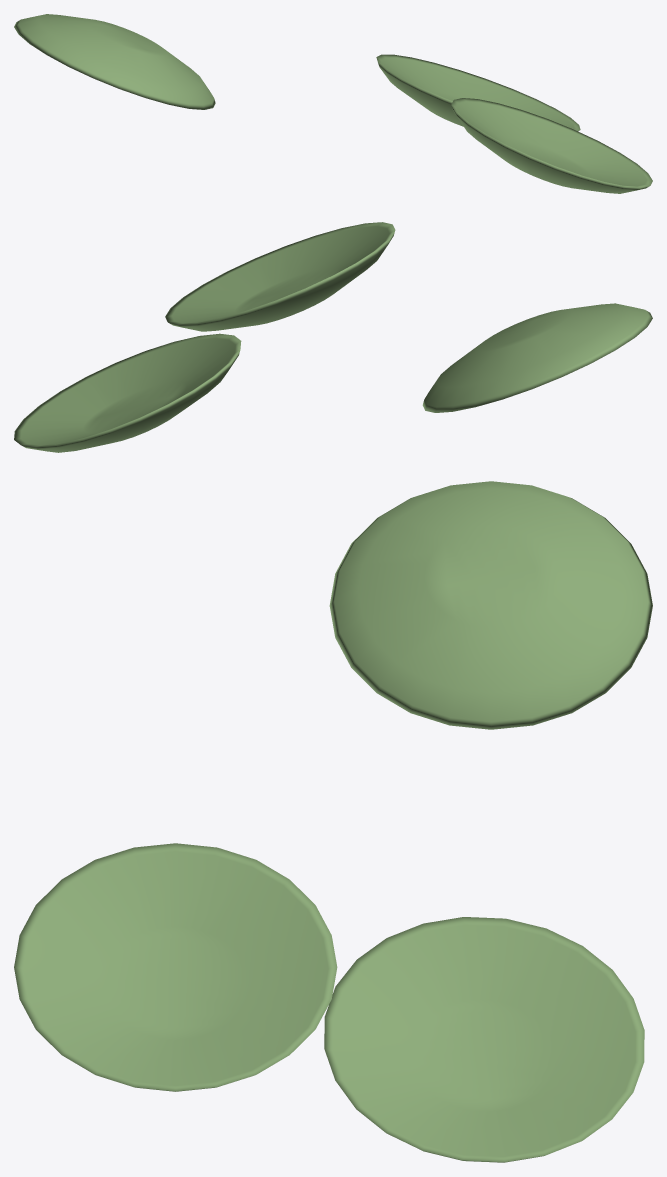
Rendered from Cupboard_14D_Break.fbx.
3 views of the same model, one above another, from view 1: azimuth 30°, elevation 25°; view 2: azimuth 150°, elevation 25°; view 3: azimuth 270°, elevation 25° (orthographic). The views are drawn at different scales.
Parts seen in each view (by area): view 1: Cupboard_14D_Break; view 2: Cupboard_14D_Break; view 3: Cupboard_14D_Break.
Part boxes in pixels (x1,y1,x2,y2): Cupboard_14D_Break: (14,14,652,193); Cupboard_14D_Break: (14,222,652,452); Cupboard_14D_Break: (14,481,652,1162).
Bounding box in the file's own units: 126 × 47.42 × 88.34.
